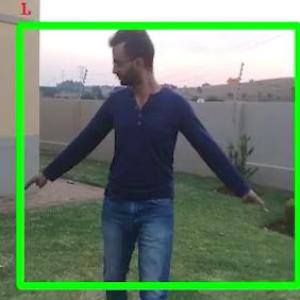land: (17, 19, 271, 299)
